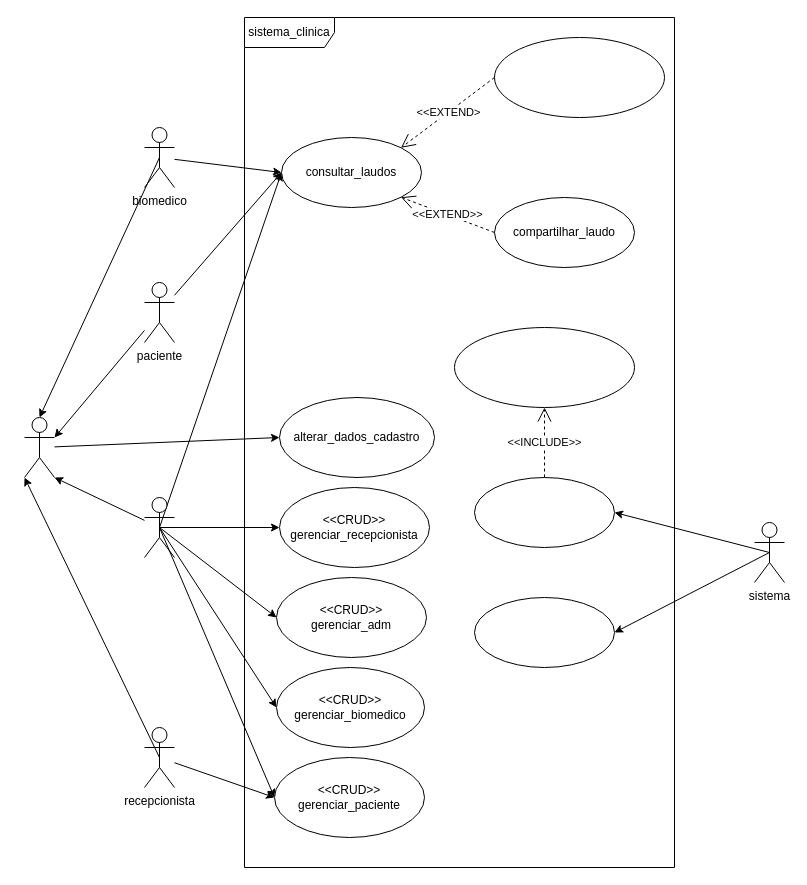
Image size: 807x885. Some labels were removed from this diagram. Each missing label, with the centre of its shape:
<<CRUD>> gerenciar_laudos: pixel 544 632
capturar_dados_dos_exames: pixel 544 367
coordenador(adm): pixel 159 527
realizar_download_do_laudo: pixel 579 77
realizar_exames: pixel 544 512
usuario: pixel 39 447
